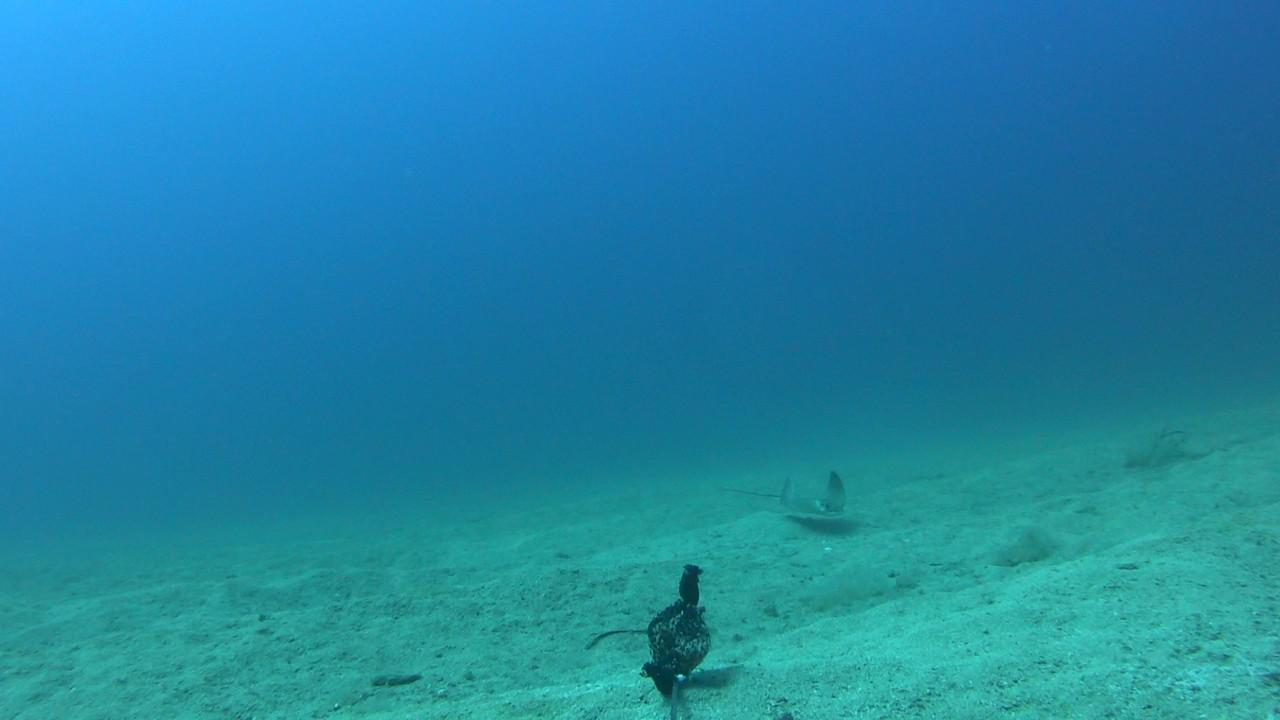myliobatis: (713, 470, 853, 528)
